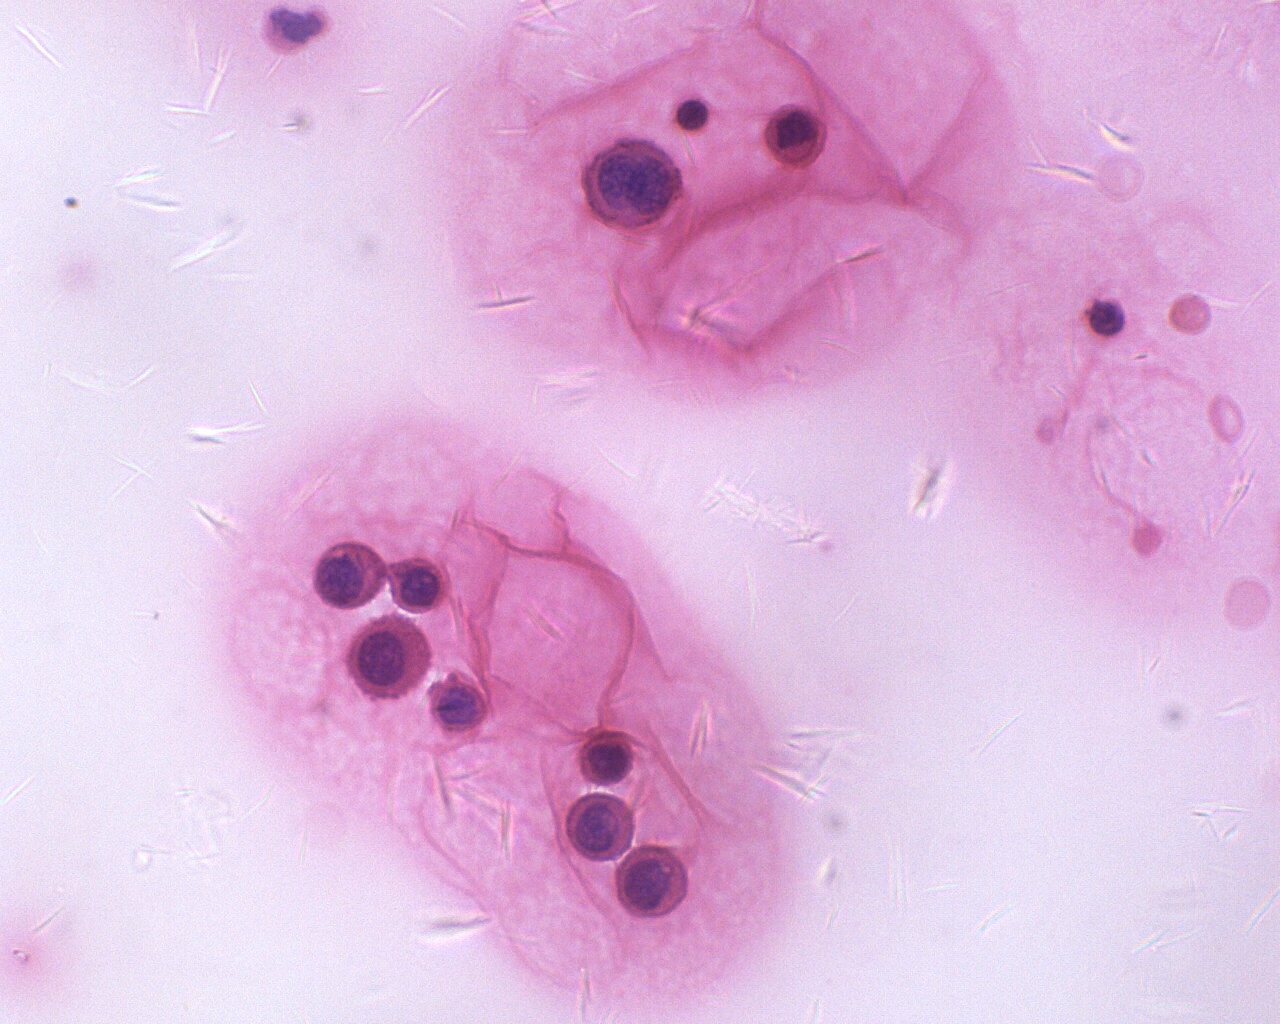ab: (579, 137, 684, 233), (762, 101, 840, 169)
lymph: (671, 97, 718, 138)
meso: (348, 611, 432, 704), (615, 840, 691, 922), (315, 538, 387, 616), (565, 791, 637, 862), (385, 552, 457, 614), (575, 727, 639, 788)
